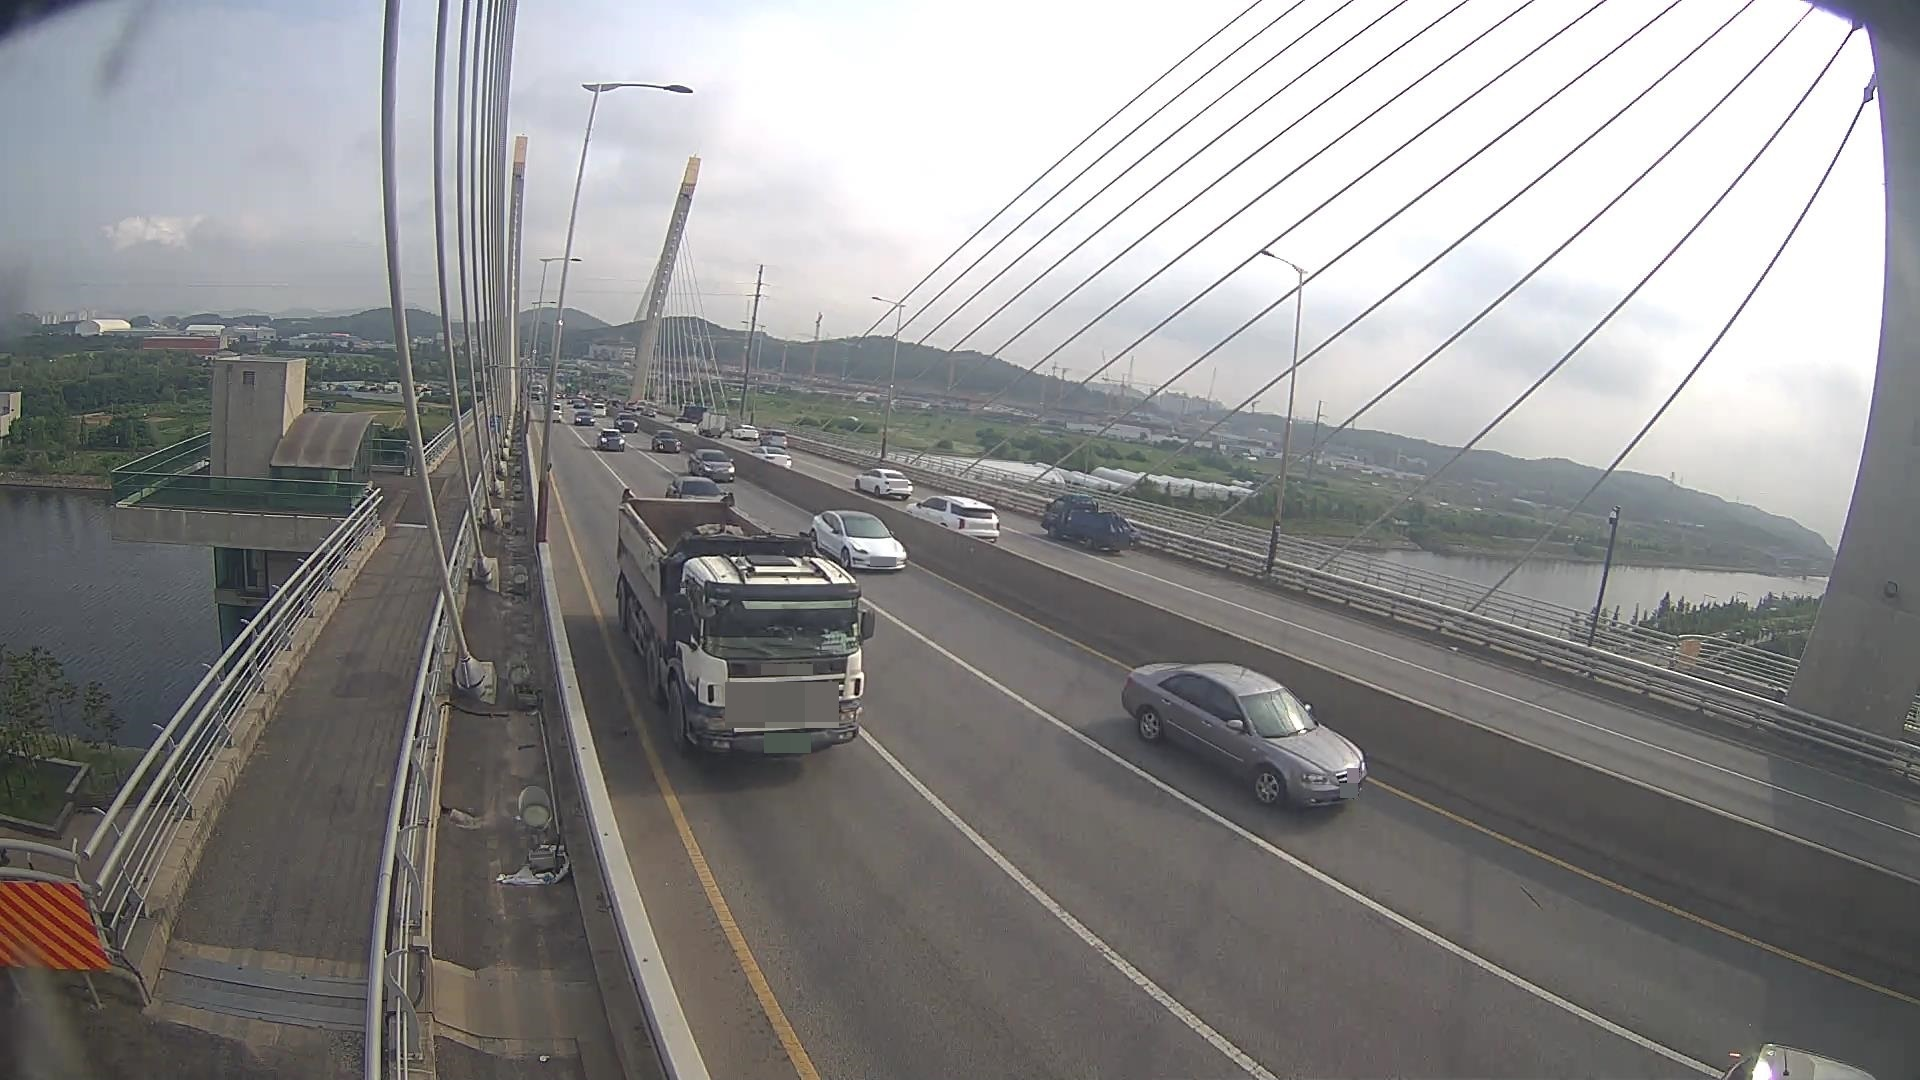정상차량: (617, 489, 876, 754)
